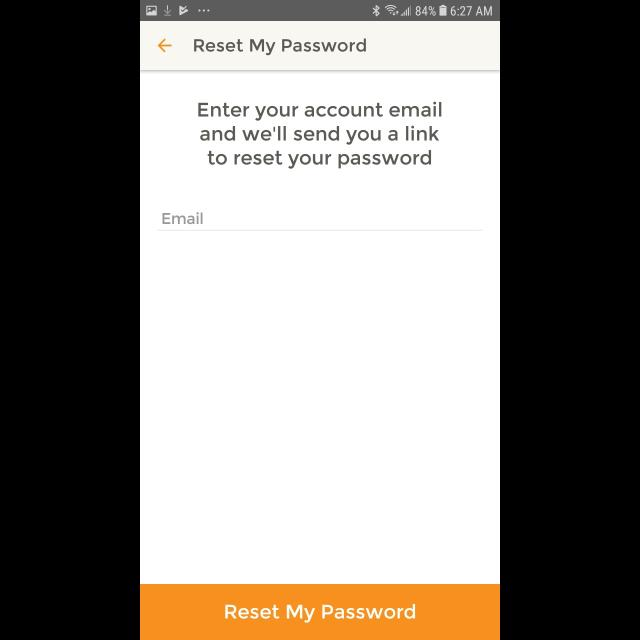icon: (158, 39, 172, 53)
input: (158, 212, 482, 232)
text: (198, 102, 442, 170), (194, 38, 366, 56), (162, 212, 204, 224)
textbutton: (140, 584, 500, 640)
uppertaskbar: (140, 1, 500, 22)
